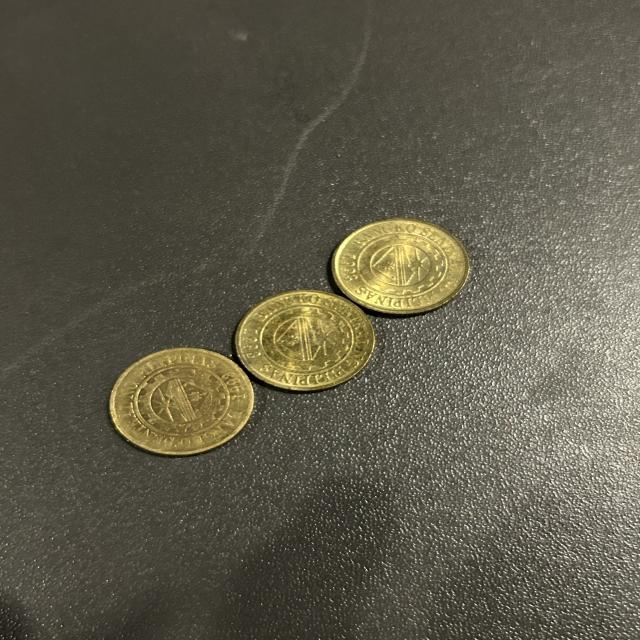25Cent_Old_Back: (108, 349, 261, 458), (331, 220, 473, 315)
